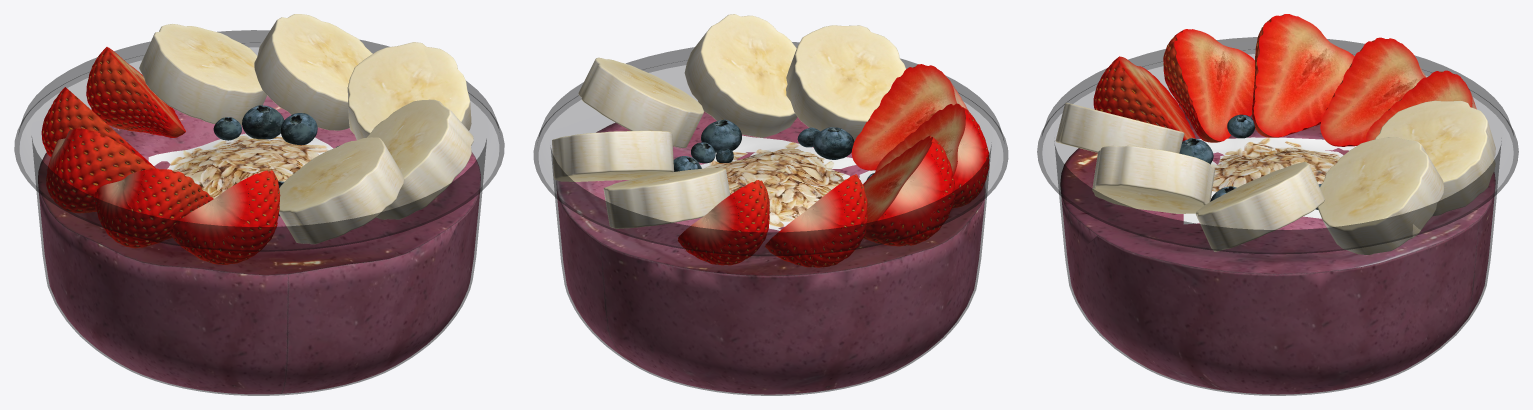
File: acai_bowl.glb
The picture shows the model from 3 angles, left to right: view 1: azimuth 30°, elevation 25°; view 2: azimuth 150°, elevation 25°; view 3: azimuth 270°, elevation 25°; orthographic projection. The views are drawn at different scales.
Visible parts, largest first — view 1: Object_3, Object_2, Object_7, Object_5, Object_6, Object_4, Object_8; view 2: Object_3, Object_2, Object_7, Object_5, Object_6, Object_4, Object_8; view 3: Object_3, Object_2, Object_7, Object_5, Object_6, Object_4, Object_8.
Part boxes in pixels (x1=…): Object_3: x1=14, y1=30, x2=504, y2=395; Object_2: x1=38, y1=95, x2=480, y2=394; Object_7: x1=139, y1=14, x2=473, y2=244; Object_5: x1=41, y1=47, x2=280, y2=264; Object_6: x1=42, y1=54, x2=213, y2=248; Object_4: x1=148, y1=133, x2=333, y2=198; Object_8: x1=213, y1=105, x2=339, y2=216; Object_3: x1=533, y1=42, x2=1008, y2=395; Object_2: x1=556, y1=111, x2=985, y2=394; Object_7: x1=552, y1=14, x2=905, y2=228; Object_5: x1=678, y1=64, x2=988, y2=267; Object_6: x1=678, y1=103, x2=989, y2=267; Object_4: x1=700, y1=135, x2=875, y2=230; Object_8: x1=673, y1=119, x2=875, y2=180; Object_3: x1=1037, y1=37, x2=1518, y2=395; Object_2: x1=1060, y1=104, x2=1495, y2=394; Object_7: x1=1055, y1=100, x2=1495, y2=254; Object_5: x1=1093, y1=14, x2=1472, y2=142; Object_6: x1=1163, y1=29, x2=1476, y2=146; Object_4: x1=1183, y1=137, x2=1356, y2=224; Object_8: x1=1179, y1=114, x2=1321, y2=209.
Size of the model in its own units: 2.88 by 1.63 by 2.88.
6 materials, 5 textured.
